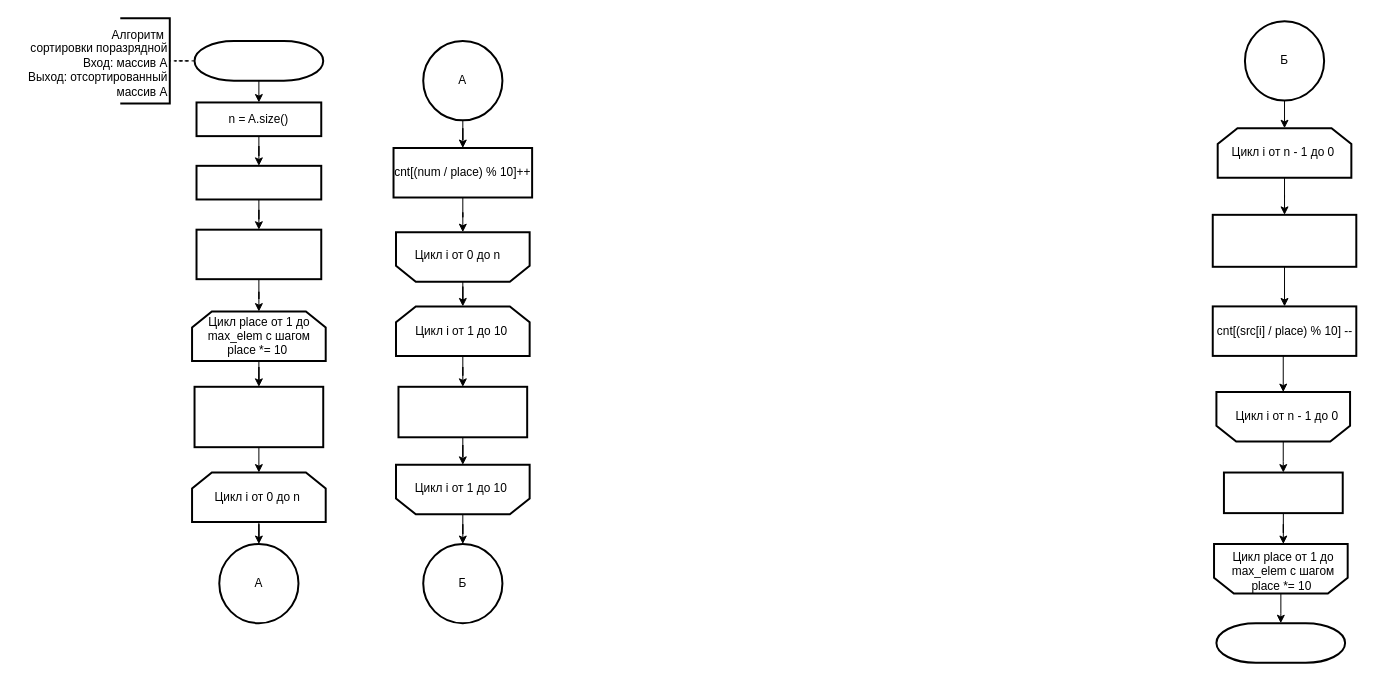
Some shapes in this 1374 by 680 pixel diagram are drawn without their labels. Here are the shapes that lost their labels. From the top down, the box of each, then its label:
(193, 40, 324, 81): Начало
(195, 164, 322, 200): max_elem = max(A)
(195, 228, 322, 280): Создание массива res длиной n
(1211, 213, 1357, 267): res[cnt[(src[i] / place) % 10] - 1] = src[i]
(193, 385, 324, 448): Создание массива cnt длиной 10
(397, 385, 528, 438): cnt[i] += cnt[i - 1]
(1222, 471, 1343, 514): src = res
(1215, 622, 1346, 663): Конец
